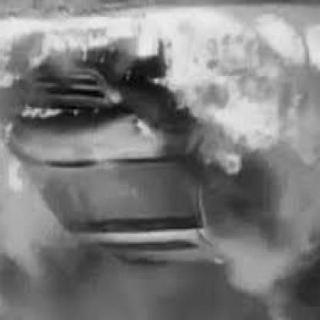Fire: (3, 8, 143, 92)
